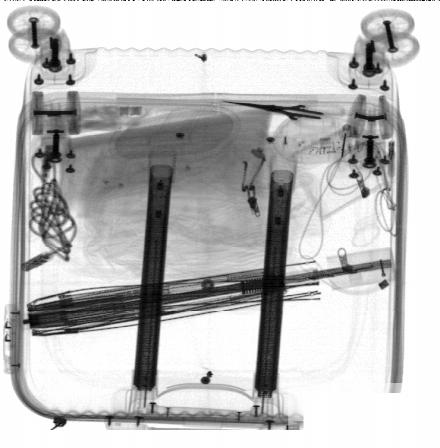Scissors: (222, 99, 345, 134)
